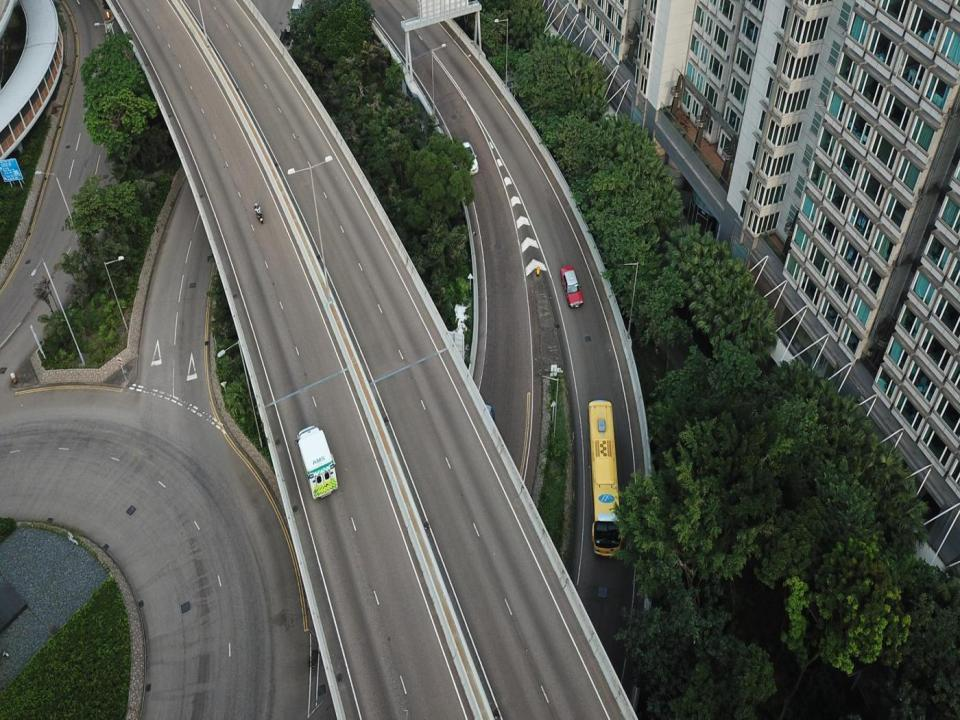bus: (586, 400, 623, 558), (290, 1, 305, 26)
car: (559, 265, 583, 307)
truck: (294, 424, 338, 500)
van: (464, 404, 494, 462)
